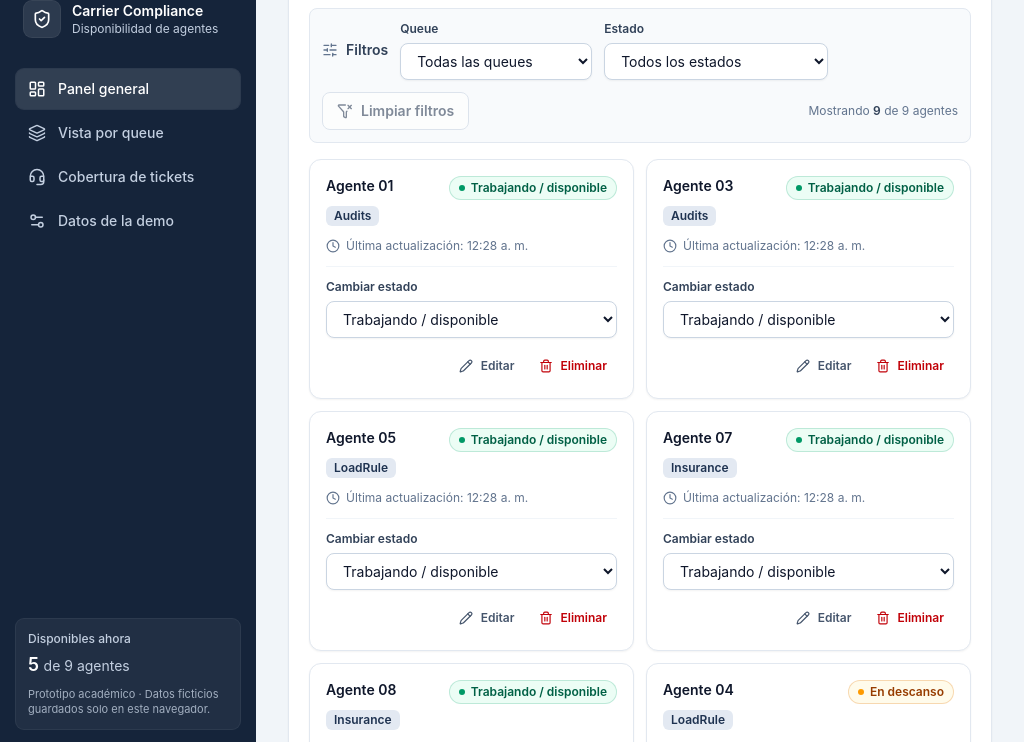
Test: Panel de disponibilidad › edita nombre y queue sin permitir duplicados
(page scrolled)
Click the button with aria-label "Editar Agente 01" at (487, 366), box x1=449 y1=350 x2=524 y2=382
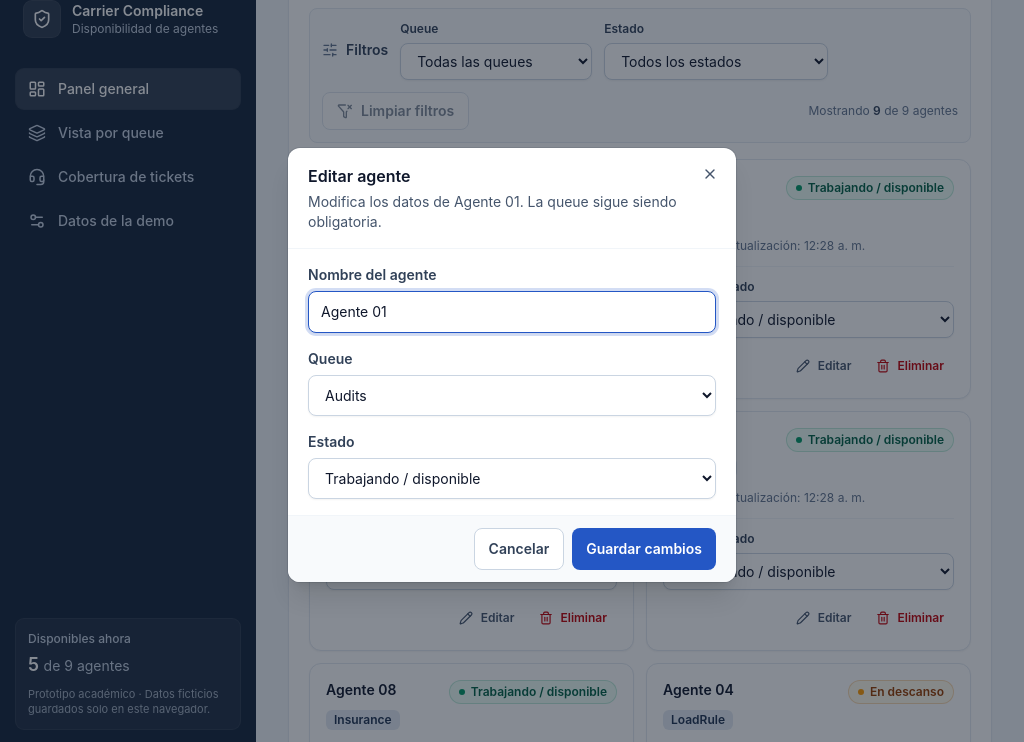
Replace the text in the field labelled "Nombre del agente" with "AGENTE 02" at (512, 312), box x1=308 y1=291 x2=716 y2=333
Click the button "Guardar cambios" at (644, 549), box x1=572 y1=528 x2=716 y2=570
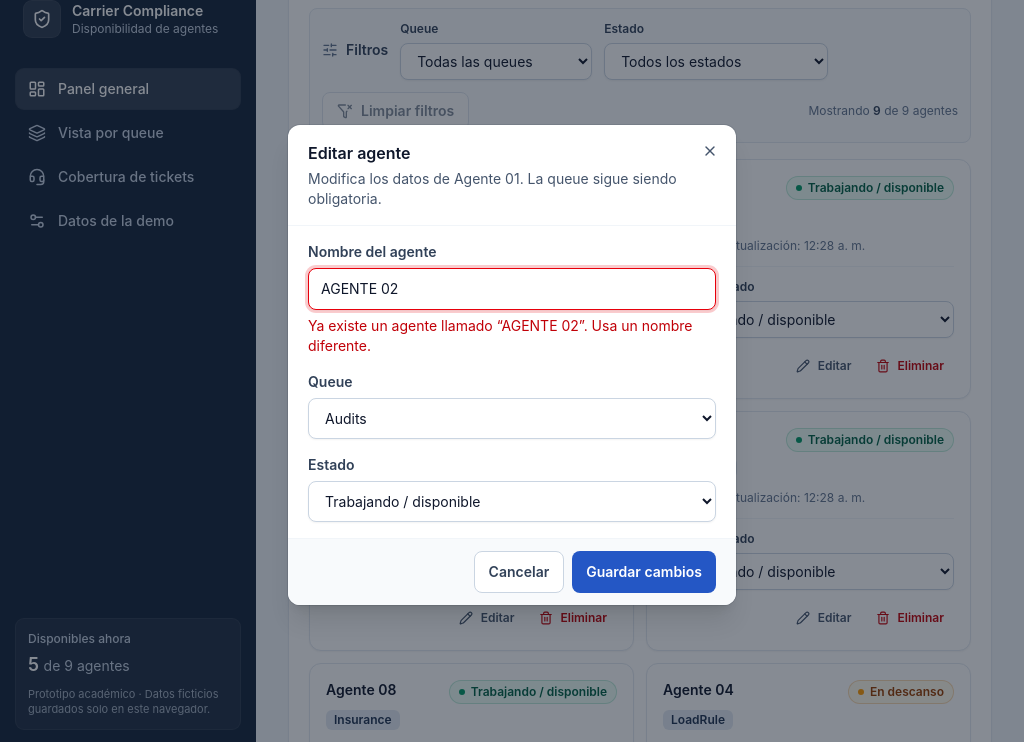
Expected: the text "Ya existe un agente llamado “AGENTE 02”. Usa un nombre diferente." is shown, x1=308 y1=316 x2=716 y2=356
Clear the field labelled "Nombre del agente" at (512, 289), box x1=308 y1=268 x2=716 y2=310
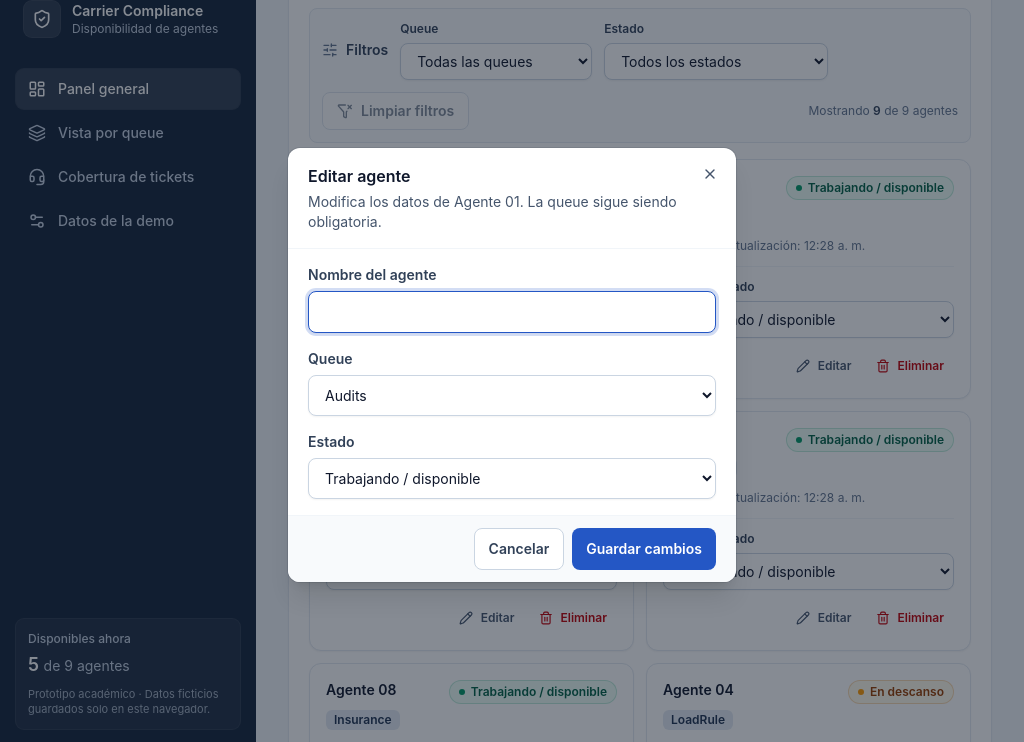
Type "Agente Uno" into the field labelled "Nombre del agente" at (512, 312), box x1=308 y1=291 x2=716 y2=333
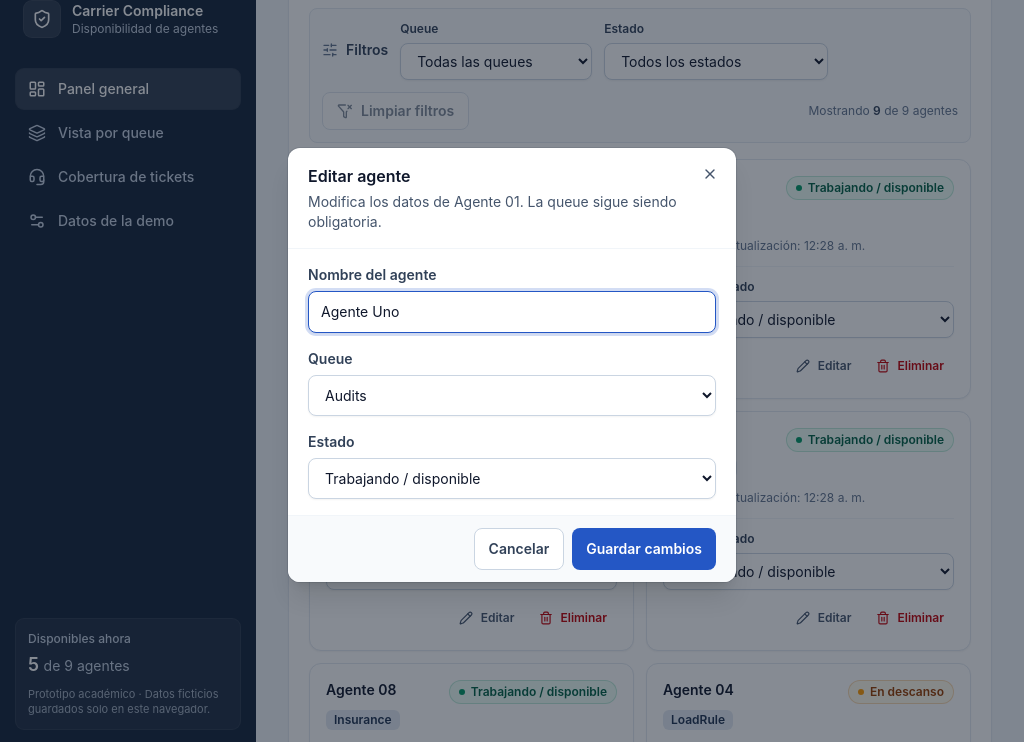
Select "Insurance" in the dropdown labelled "Queue" at (512, 396), box x1=308 y1=375 x2=716 y2=416
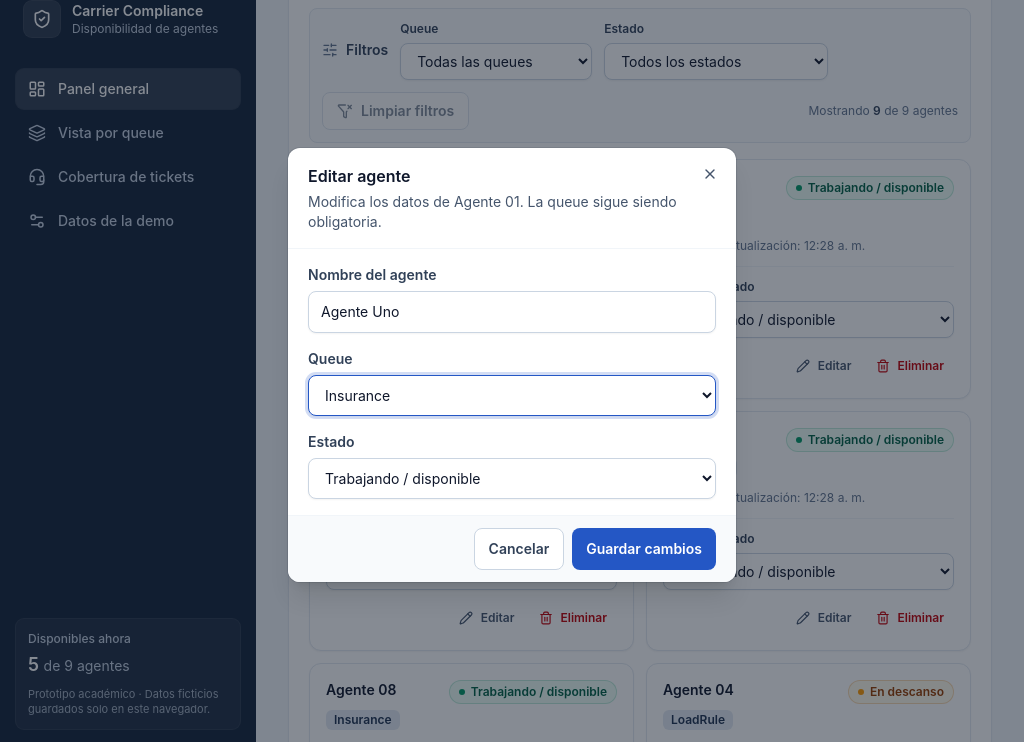
Click the button "Guardar cambios" at (644, 549), box x1=572 y1=528 x2=716 y2=570
(page scrolled)
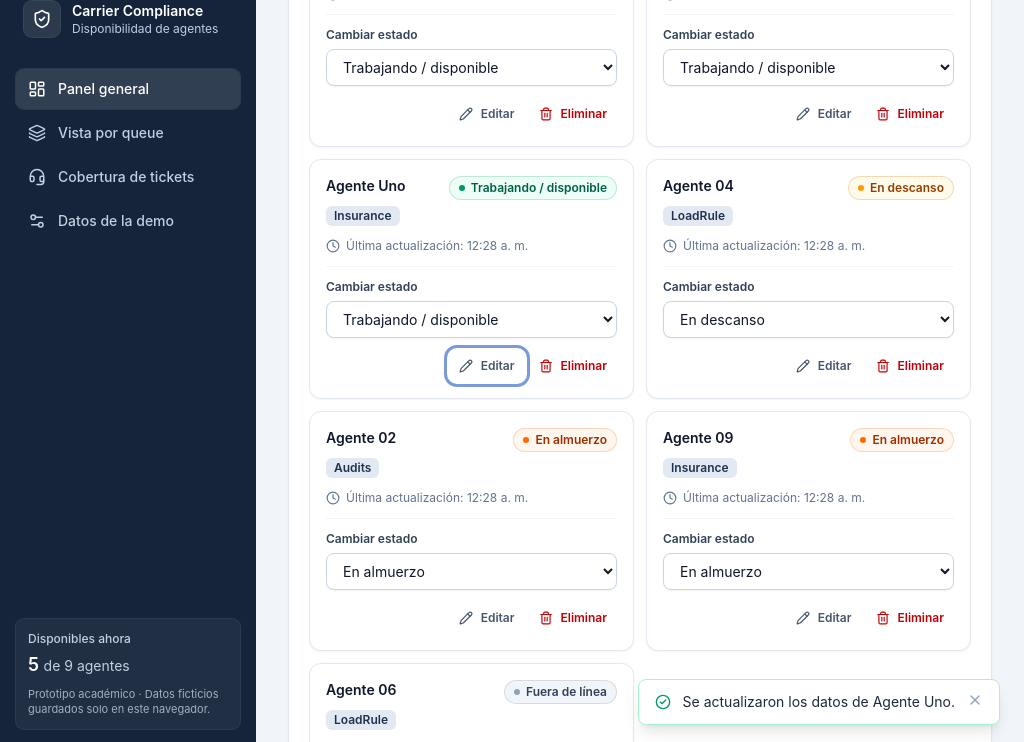
Expected: the dialog is gone
Expected: the 1st text "Insurance" is shown, x1=326 y1=206 x2=400 y2=226
